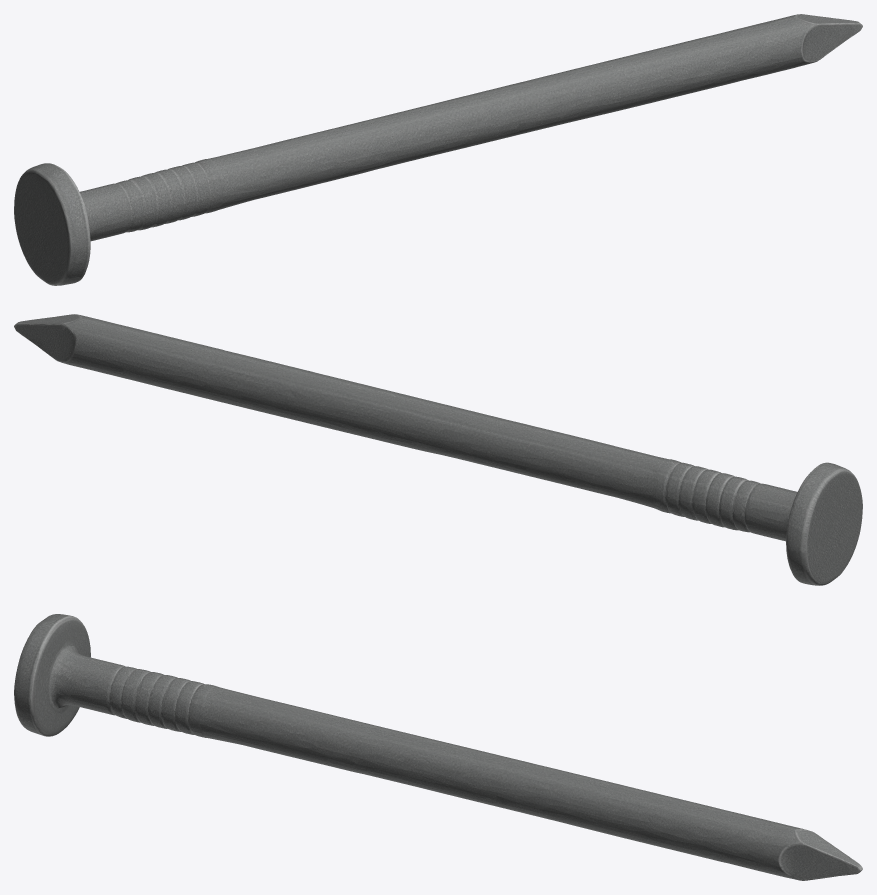
File: Meshy_AI_Nail_Electrode_Remesh_0924171033_texture.glb
The picture shows the model from 3 angles, top to bottom: view 1: azimuth 30°, elevation 25°; view 2: azimuth 150°, elevation 25°; view 3: azimuth 330°, elevation 25°; orthographic projection.
Visible parts, largest first — view 1: output_unwrapped; view 2: output_unwrapped; view 3: output_unwrapped.
Part boxes in pixels (<box>): output_unwrapped: <box>14,14,862,285</box>; output_unwrapped: <box>14,314,862,585</box>; output_unwrapped: <box>14,614,862,880</box>.
Bounding box in the file's own units: 1.9 × 0.2479 × 0.2418.
1 material, 1 textured.
